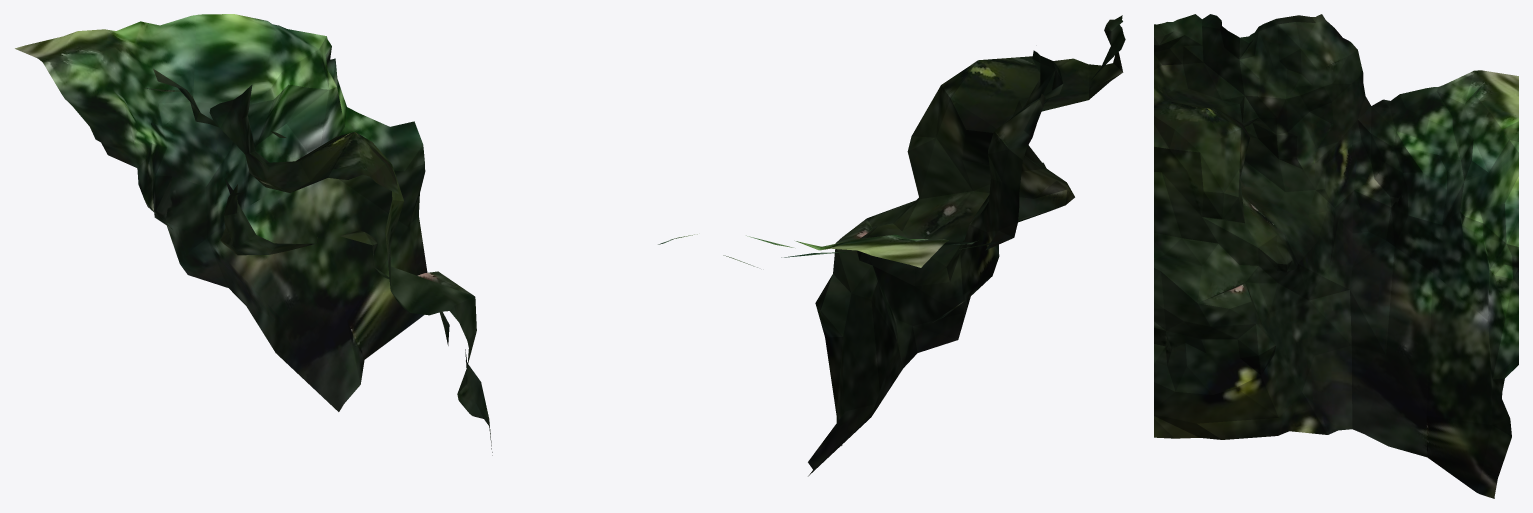
3 views of the same model, side by side, from view 1: azimuth 30°, elevation 25°; view 2: azimuth 150°, elevation 25°; view 3: azimuth 270°, elevation 25° (orthographic). The views are drawn at different scales.
Size of the model in its own units: 1.67 by 1.67 by 1.67.
Materials: 4 (4 with a texture image).
